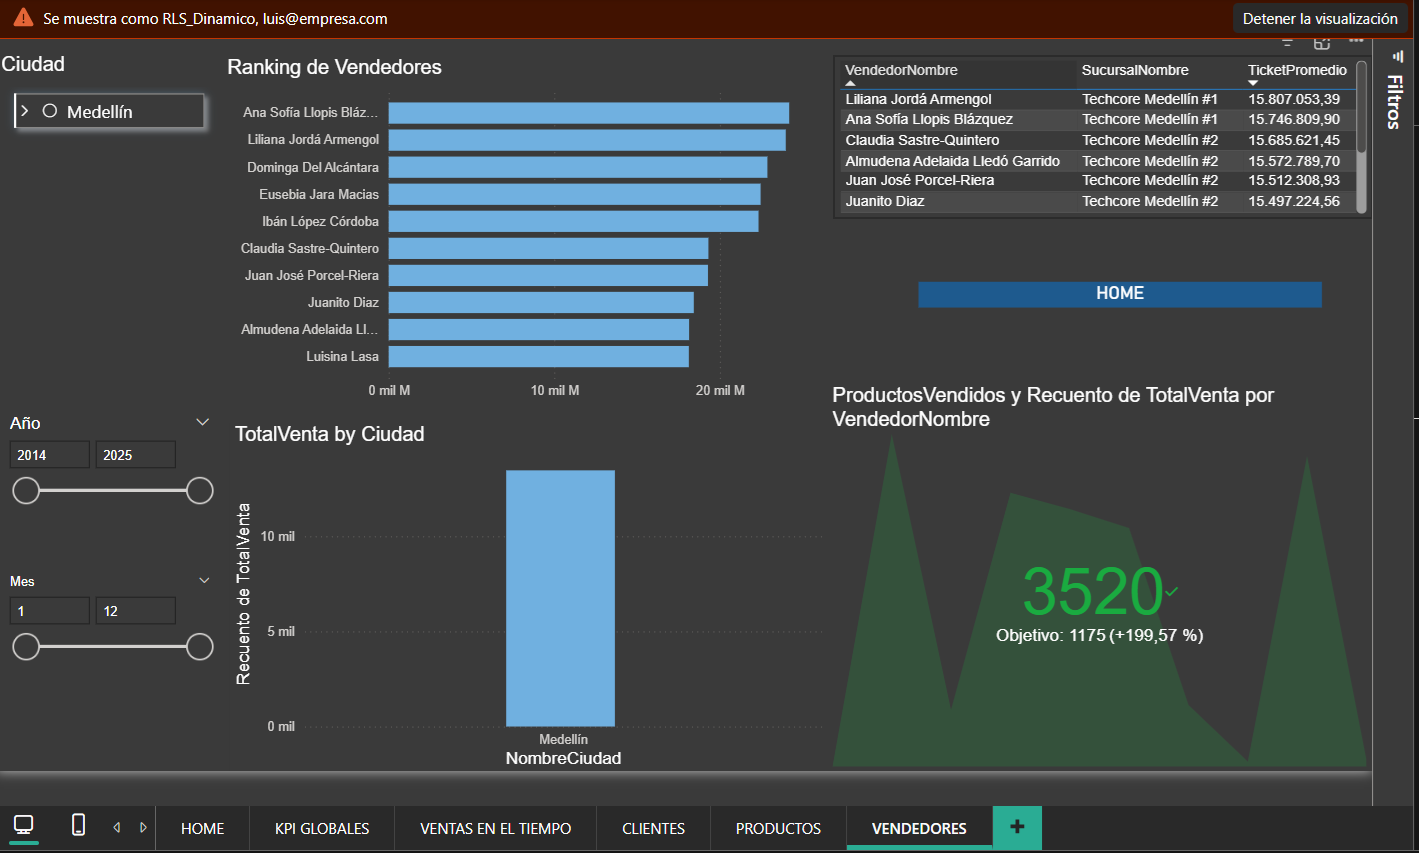

This screenshot's page, from the dashboard's own definition file:
{"tool":"powerbi","page":{"name":"VENDEDORES","canvas":[1280,720],"ordinal":5},"visuals":[{"type":"tableEx","fields":{"Values":["Vendedores.VendedorNombre","Sucursales.SucursalNombre","Facturas.TicketPromedio"]},"box":[779.1,54,500.6,152.1],"z":0},{"type":"clusteredBarChart","title":"Ranking de Vendedores","fields":{"Category":["Vendedores.VendedorNombre"],"Y":["DetalleFacturas.VentasTotales"]},"box":[211,54,568.1,327.6],"z":1000},{"type":"listSlicer","fields":{"Values":["Sucursales.Ciudad","Sucursales.SucursalNombre"]},"box":[0,51.5,211,479.8],"z":2000},{"type":"slicer","fields":{"Values":["Facturas.Año"]},"box":[0,381.6,211,177.9],"z":3000},{"type":"slicer","fields":{"Values":["Facturas.Mes"]},"box":[0,531.3,211,149.7],"z":4000},{"type":"clusteredColumnChart","title":" TotalVenta by Ciudad","fields":{"Y":["CountNonNull(Facturas.TotalVenta)"],"Category":["Ciudades.NombreCiudad"]},"box":[217.2,395.1,555.8,325.2],"z":5000},{"type":"kpi","fields":{"Indicator":["DetalleFacturas.ProductosVendidos"],"TrendLine":["Vendedores.VendedorNombre"],"Goal":["CountNonNull(Facturas.TotalVenta)"]},"box":[773,359.5,506.8,360.7],"z":6000},{"type":"bookmarkNavigator","title":"HOME","box":[857.7,263.8,375.5,28.2],"z":7000}]}

Visuals, with their boxes on the page's 1280x720 design canvas (x1, y1, x2, y2). These are canvas units, not pixel positions in the 1419x853 screenshot, which may show the page scaled, cropped or inside an application window:
tableEx - Vendedores.VendedorNombre x Sucursales.SucursalNombre: BBox(779, 54, 1280, 206)
"Ranking de Vendedores" clusteredBarChart: BBox(211, 54, 779, 382)
listSlicer - Sucursales.Ciudad x Sucursales.SucursalNombre: BBox(0, 52, 211, 531)
slicer - Facturas.Año: BBox(0, 382, 211, 560)
slicer - Facturas.Mes: BBox(0, 531, 211, 681)
" TotalVenta by Ciudad" clusteredColumnChart: BBox(217, 395, 773, 720)
kpi - DetalleFacturas.ProductosVendidos x Vendedores.VendedorNombre: BBox(773, 360, 1280, 720)
"HOME" bookmarkNavigator: BBox(858, 264, 1233, 292)
